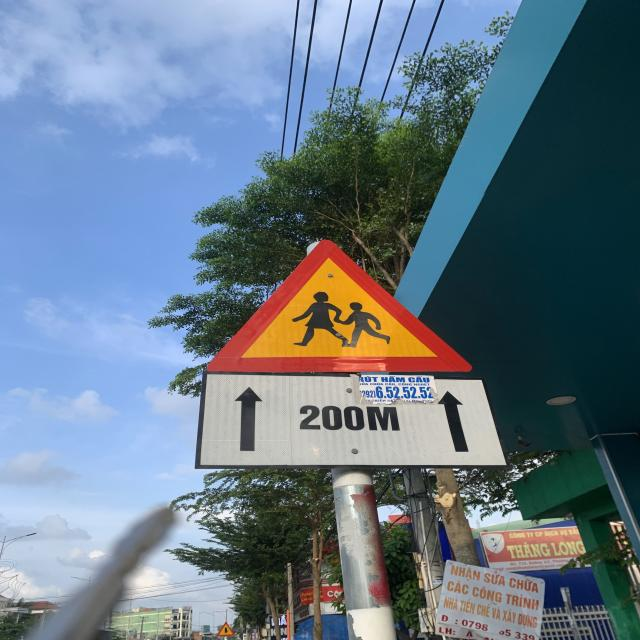Vong_Xuyen: (208, 240, 471, 376)
